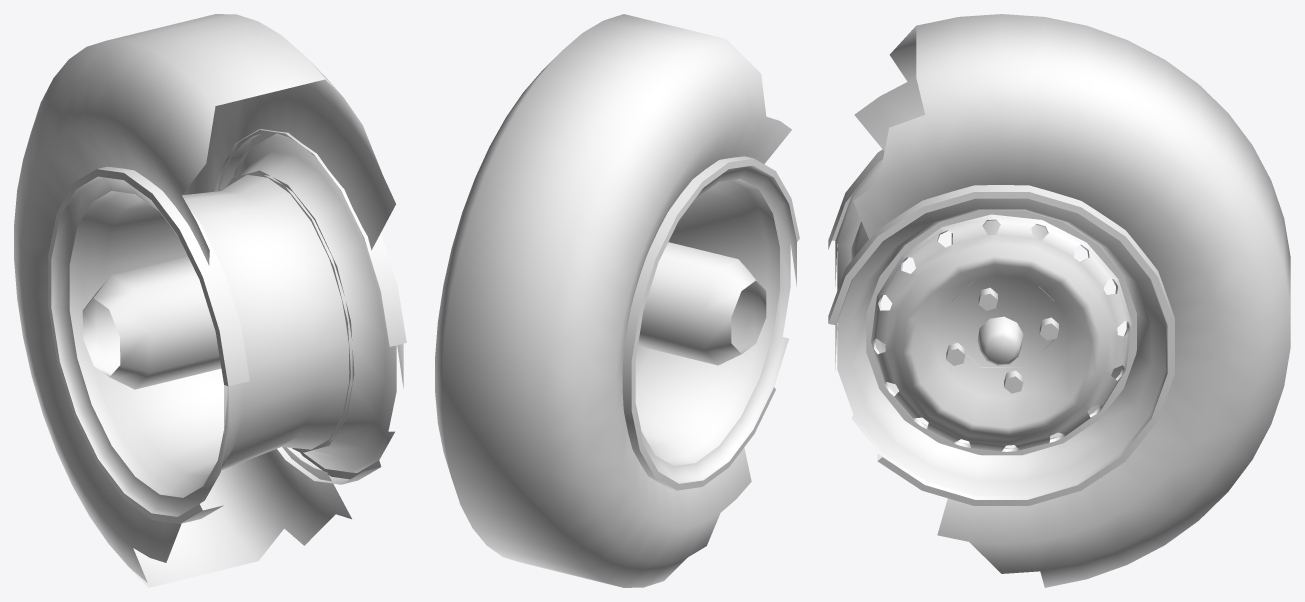
3 renders of one model, left to right at view 1: azimuth 30°, elevation 25°; view 2: azimuth 150°, elevation 25°; view 3: azimuth 270°, elevation 25°, orthographic. The views are drawn at different scales.
Bounding box in the file's own units: 0.2588 × 0.6187 × 0.4962.
Materials: 1 (1 with a texture image).
